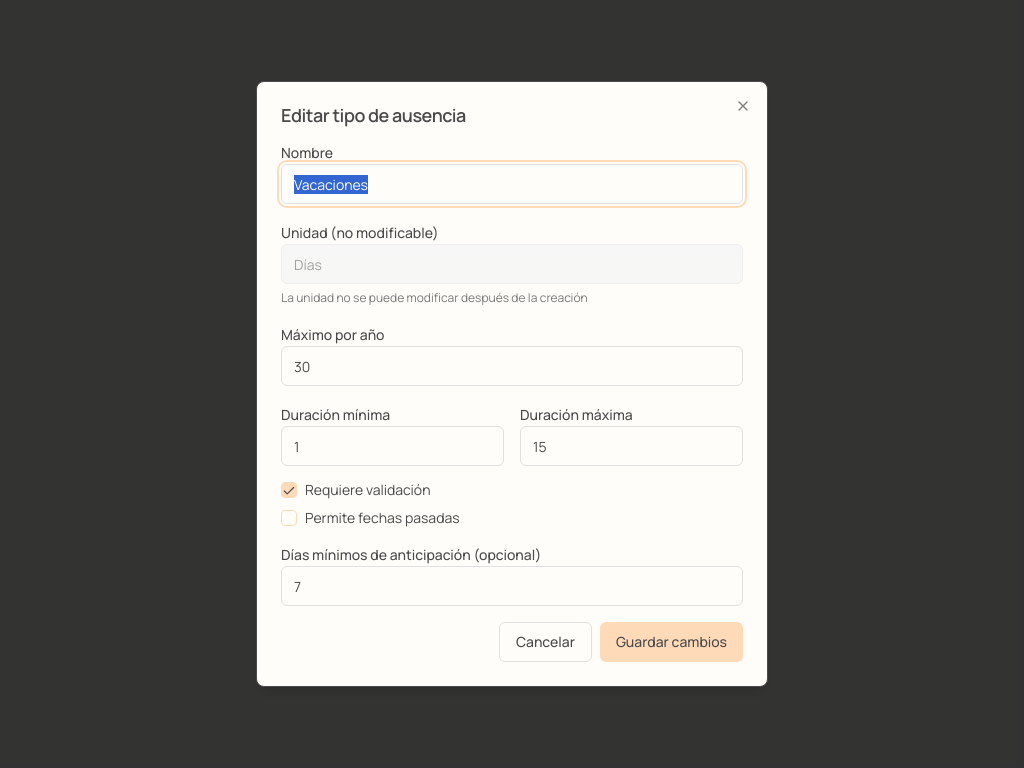
Test: AbsenceTypeFormDialog: modo editar › muestra error de validación al borrar el nombre en modo edición
Clear the field labelled "Nombre" at (512, 184), box [281,164,743,204]
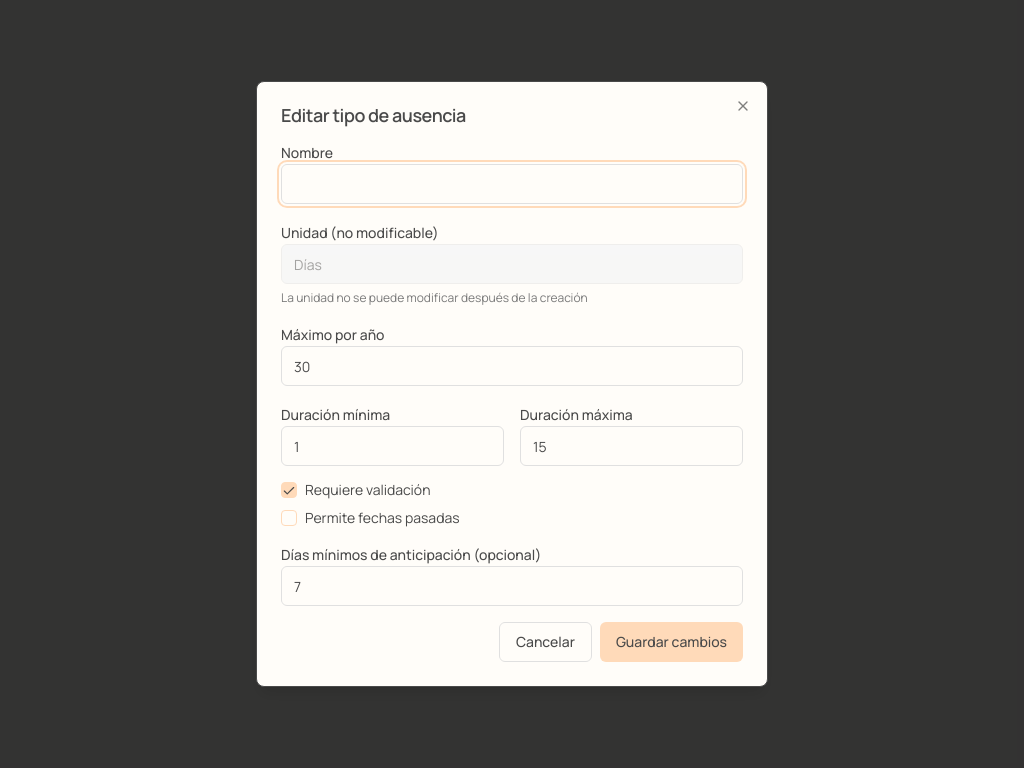
Click the button "Guardar cambios" at (671, 642), box [600,622,743,662]
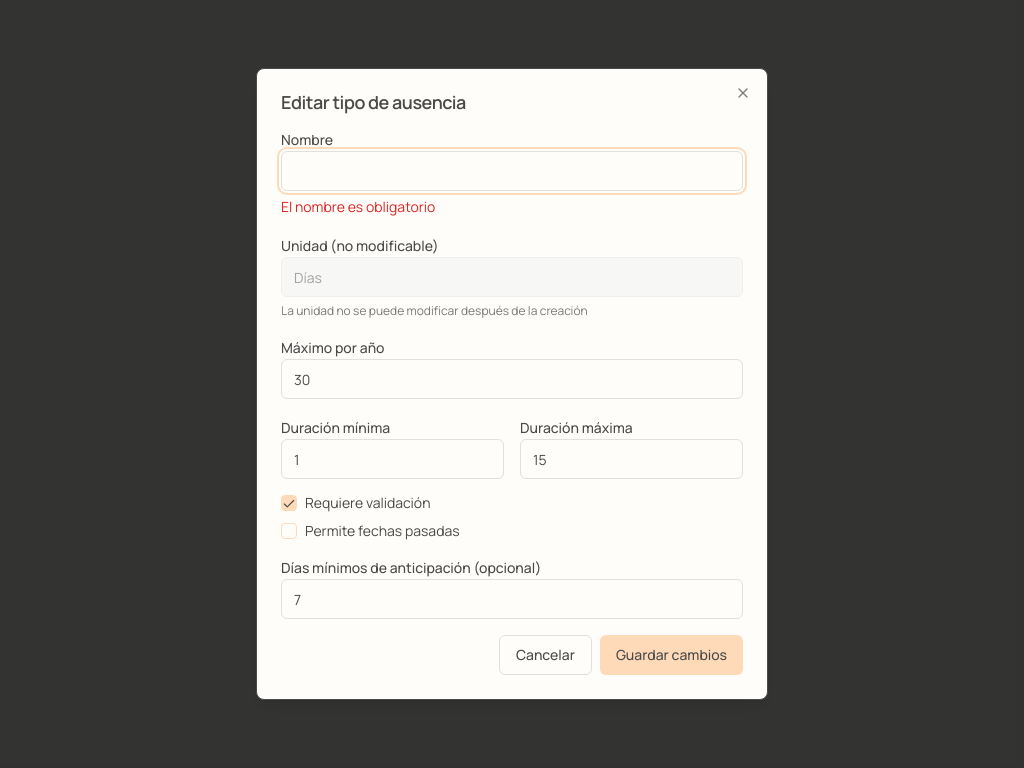
Check: the message "El nombre es obligatorio" is shown, box [281,197,435,216]
